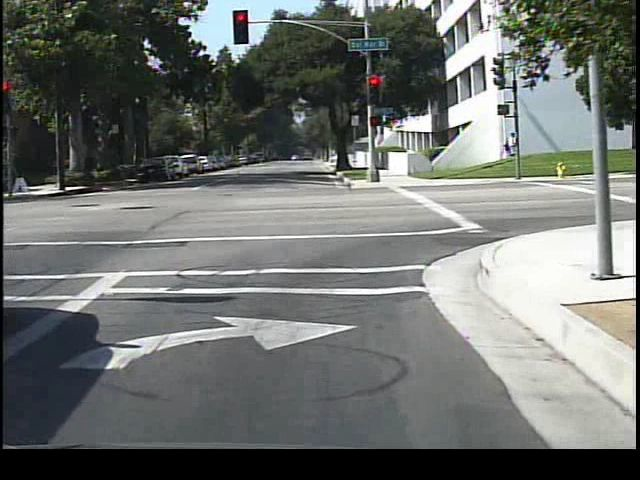person: (496, 128, 519, 174)
